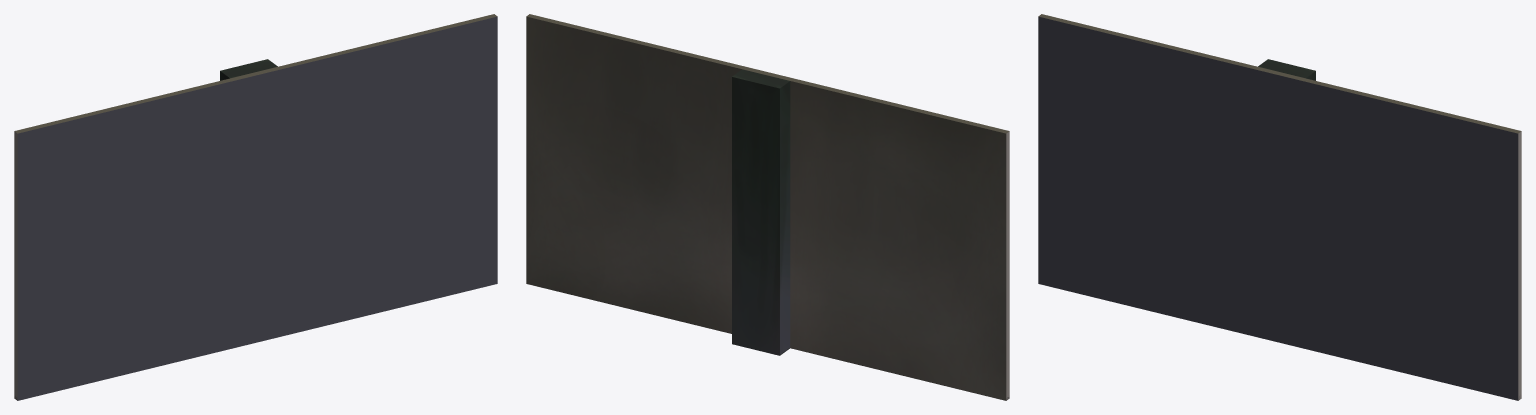
File: ParedeTopo.fbx
3 views of the same model, side by side, from view 1: azimuth 30°, elevation 25°; view 2: azimuth 150°, elevation 25°; view 3: azimuth 330°, elevation 25° (orthographic).
Parts seen in each view (by area): view 1: Cube; view 2: Cube; view 3: Cube.
Part boxes in pixels (box(x1,y1,x2,y2)): Cube: box(14, 14, 497, 400); Cube: box(526, 14, 1009, 400); Cube: box(1038, 14, 1521, 400).
Bounding box in the file's own units: 8 × 4.26 × 0.4001.
